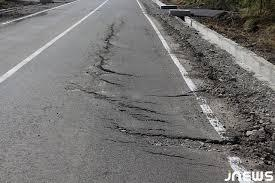crack: (114, 122, 230, 147), (93, 17, 131, 90)
